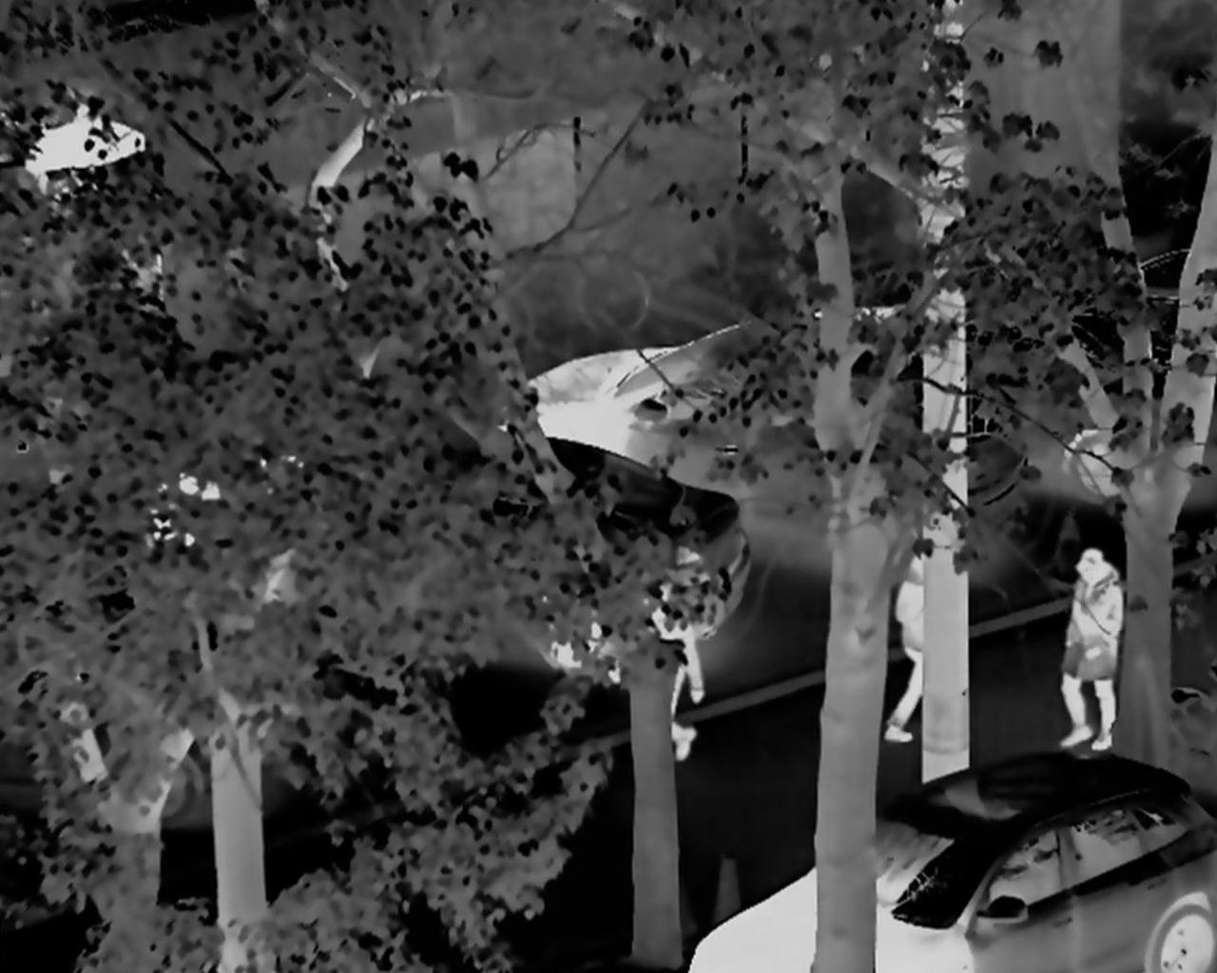person: (1046, 545, 1119, 752), (880, 529, 947, 741), (634, 575, 705, 762)
